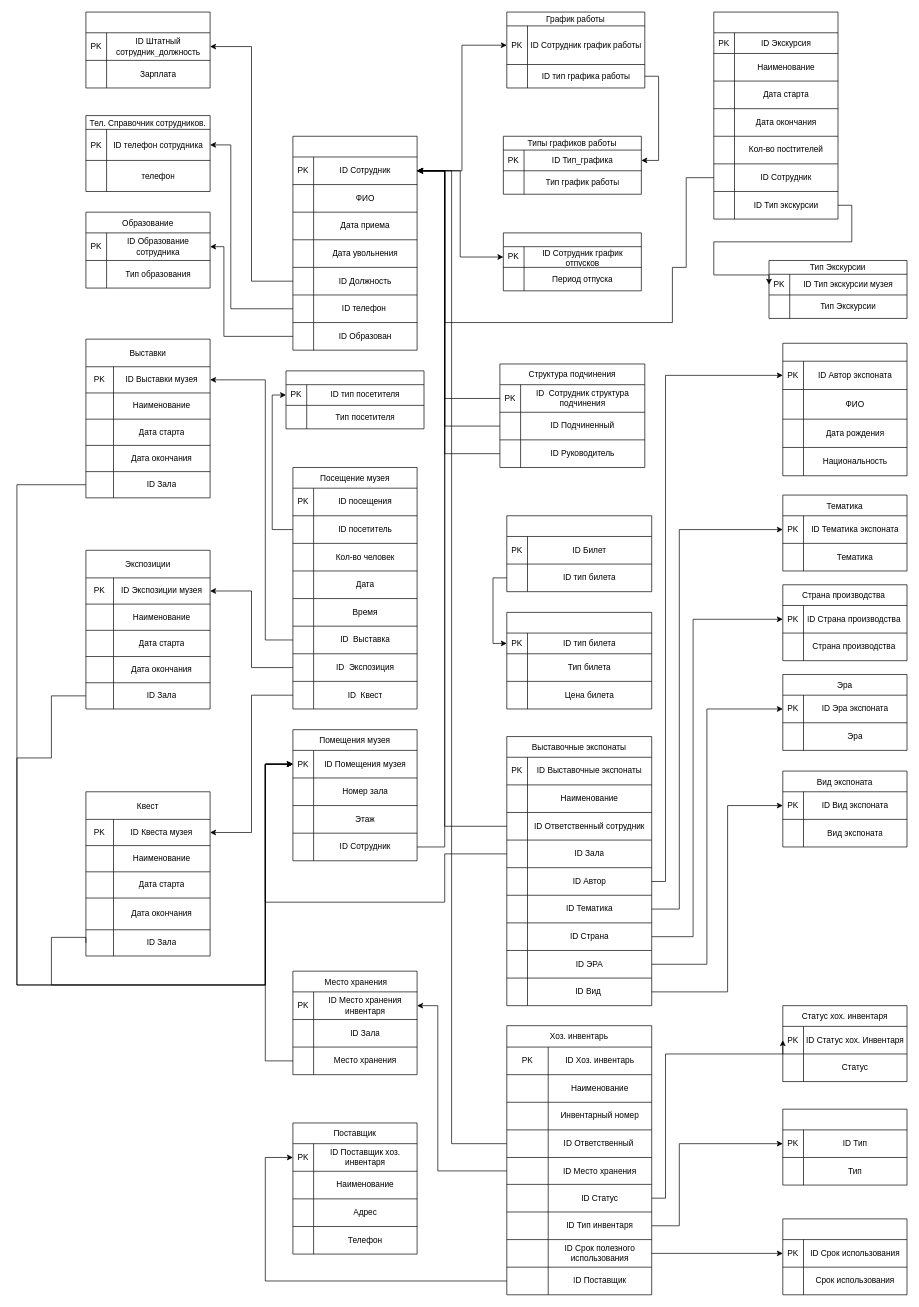
Image size: 919x1307. Some labels were removed from this diagram. Each missing label, with the box of its shape:
Авторы: (782, 343, 907, 476)
Билеты: (506, 515, 652, 592)
График отпусков сотрудников: (503, 232, 641, 291)
График экскурсий: (713, 11, 838, 219)
Сотрудники музея: (292, 136, 417, 350)
Срок полезного использования: (782, 1218, 907, 1295)
Тип инвентаря: (782, 1108, 907, 1185)
Тип посетителя музея: (285, 370, 424, 429)
Типы билетов: (506, 612, 652, 709)
Штатное расписание: (85, 11, 210, 88)
